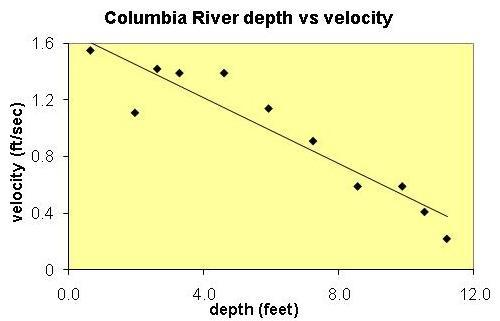axis: (62, 265, 477, 278), (61, 40, 73, 279)
point: (218, 66, 231, 79), (351, 181, 365, 193), (261, 104, 276, 115), (396, 180, 409, 192), (308, 135, 320, 147), (129, 107, 142, 118), (151, 64, 163, 75), (173, 68, 185, 79), (418, 206, 430, 217), (441, 232, 452, 244), (84, 45, 95, 56)
